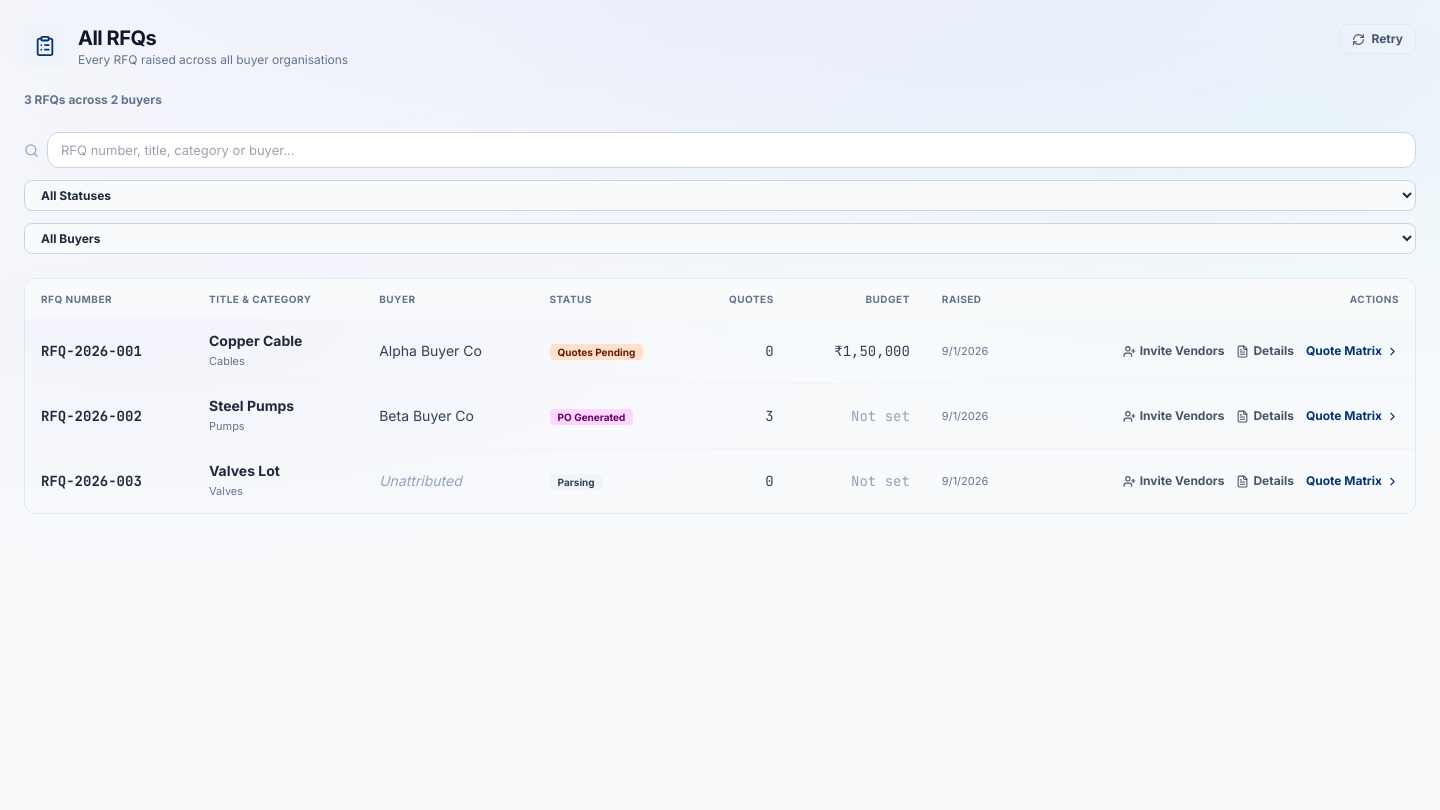
AllRFQsConsole › opens the Invite Vendors modal for a row, and applies the updated RFQ to the table on success
Check: the text "Steel Pumps" is shown, box x1=209 y1=397 x2=294 y2=414
What coordinates should you click on to do the following:
click the button "Invite Vendors" in the row of "RFQ-2026-002"
I would click on:
 (1174, 416)
Its box is x1=1123 y1=408 x2=1224 y2=424.
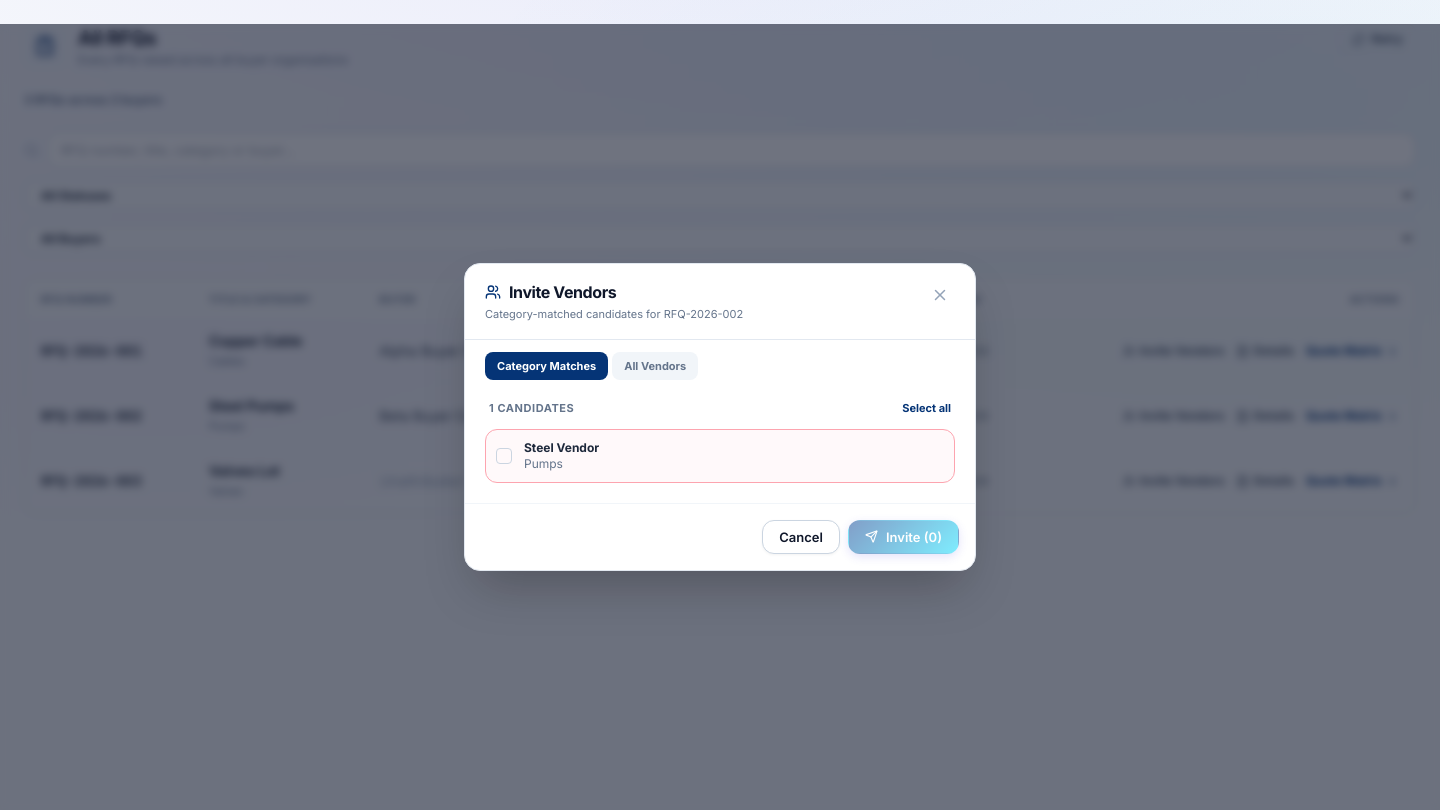
Check: the text "Steel Vendor" is shown, box x1=524 y1=440 x2=599 y2=455
What coordinates should you click on to do the following:
click the checkbox
I would click on:
 (562, 447)
Its box is x1=485 y1=429 x2=955 y2=483.
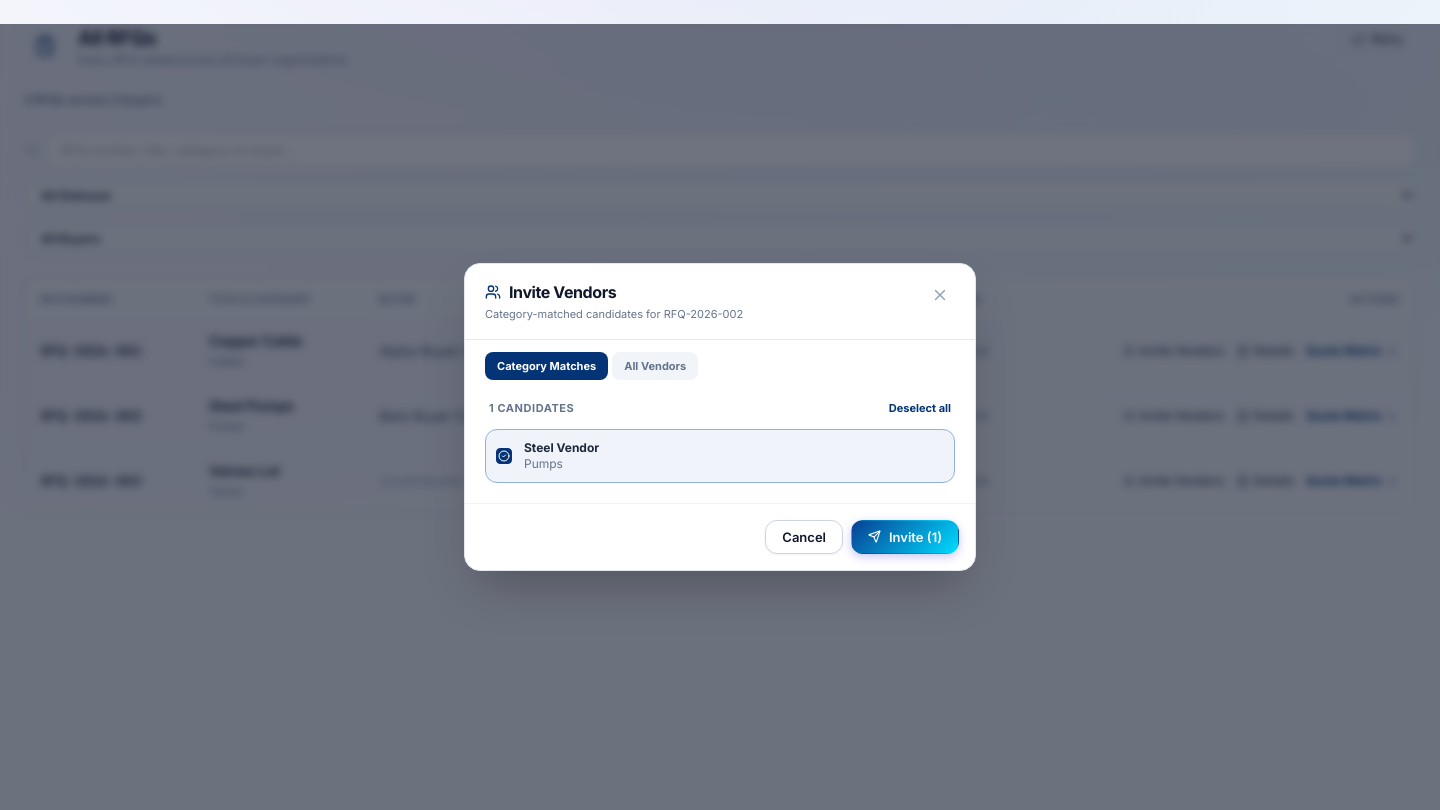
What coordinates should you click on to do the following:
click the button "Invite (1)"
I would click on:
 (905, 537)
Its box is x1=851 y1=520 x2=959 y2=554.
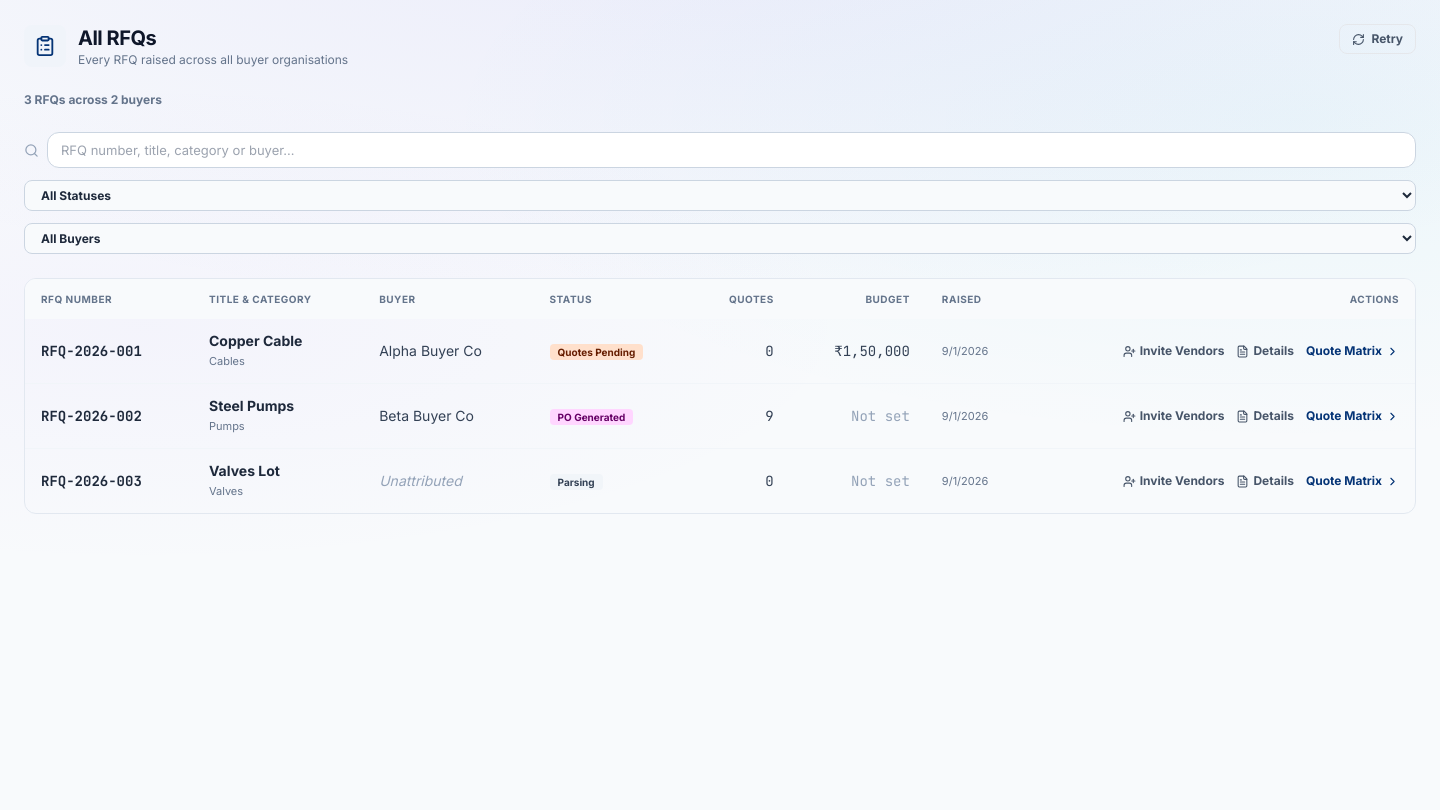
Check: the dialog with test id "invite-vendors-modal" is gone
Check: the text "9" is shown, box x1=693 y1=384 x2=790 y2=448
